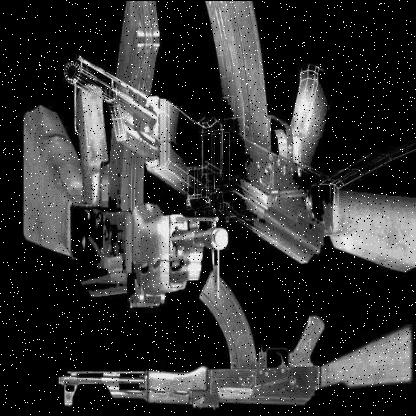rifle: (35, 270, 416, 415)
